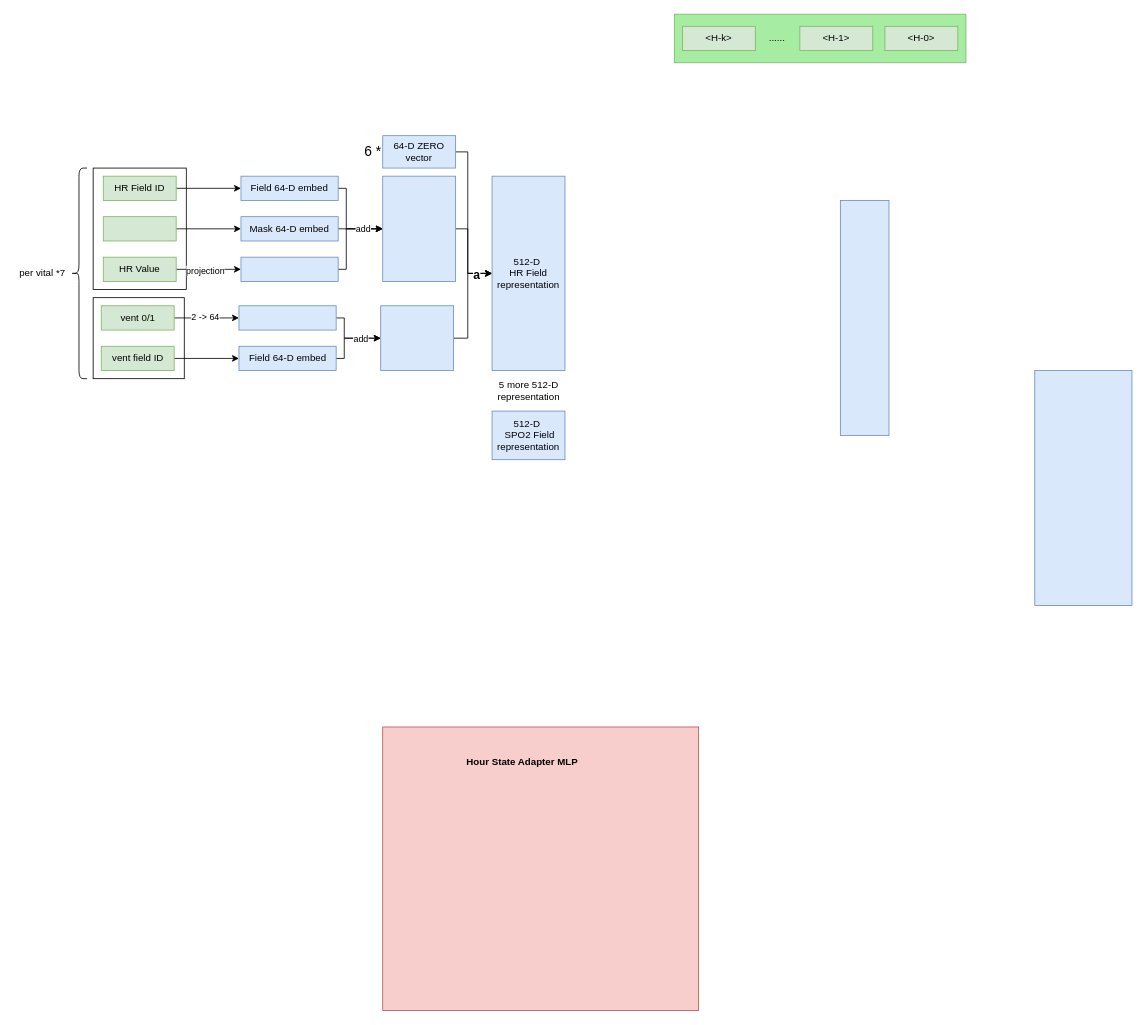
The diagram is 1146 pixels wide and 1025 high, and some of its shapes have lost their labels. The centre of each missing label's shape, as x and y in pixels:
"256-D Hidden State" goes at point 864,317.
"64-D feature representation" goes at point 419,228.
"64-D vent representation" goes at point 417,338.
"768-D Hour State Embedding" goes at point 1083,487.
"HR Mask" goes at point 139,228.
"Value 64-D vector" goes at point 289,268.
"Vent state embed" goes at point 287,317.
